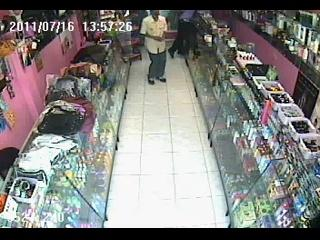Normal: (140, 11, 168, 86)
